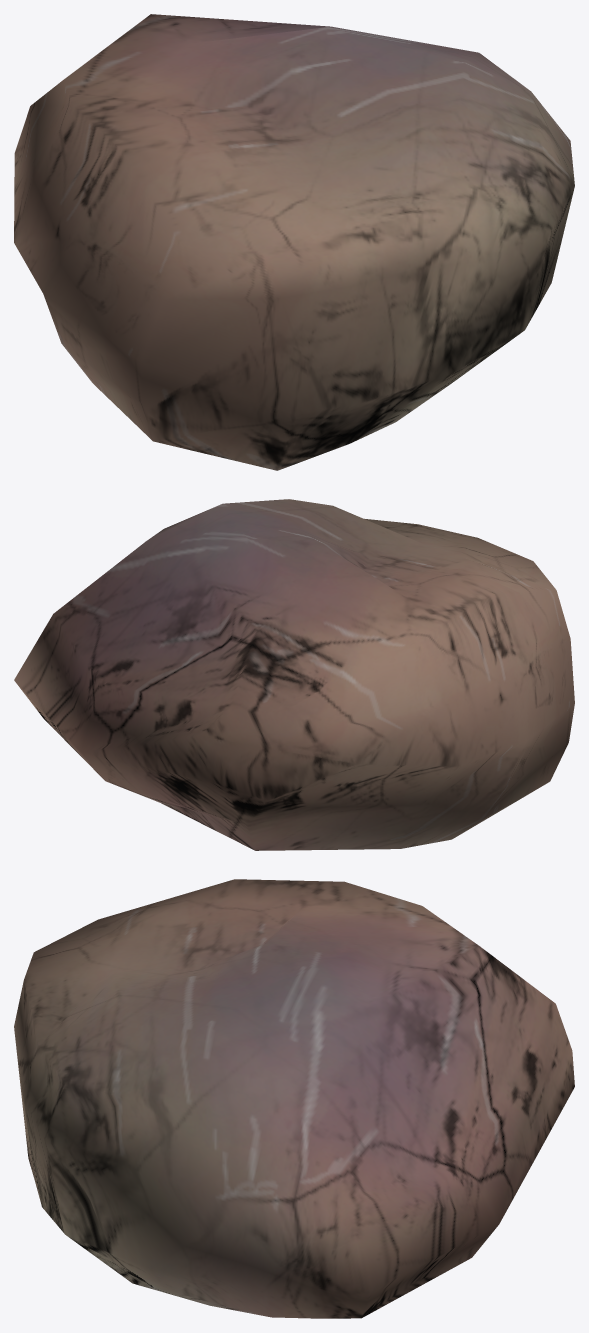
File: Rock_02B.fbx
3 renders of one model, top to bottom at view 1: azimuth 30°, elevation 25°; view 2: azimuth 150°, elevation 25°; view 3: azimuth 270°, elevation 25°, orthographic. The views are drawn at different scales.
Visible parts, largest first — view 1: Rock01:Mesh4; view 2: Rock01:Mesh4; view 3: Rock01:Mesh4.
Boxes of the visible parts, <box> form: Rock01:Mesh4: <box>14,14,574,470</box>; Rock01:Mesh4: <box>14,499,574,850</box>; Rock01:Mesh4: <box>14,879,574,1318</box>.
Bounding box in the file's own units: 8.82 × 5.16 × 7.76.
